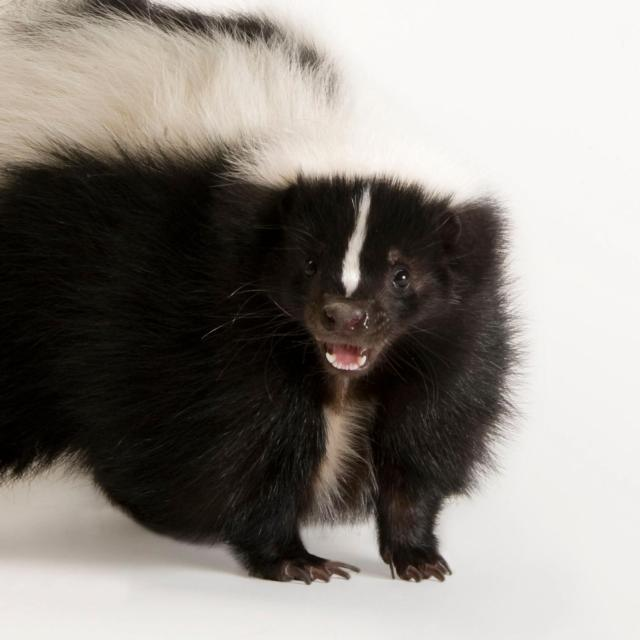Skunk: (0, 0, 553, 609)
